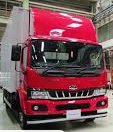truck: (1, 7, 109, 128)
